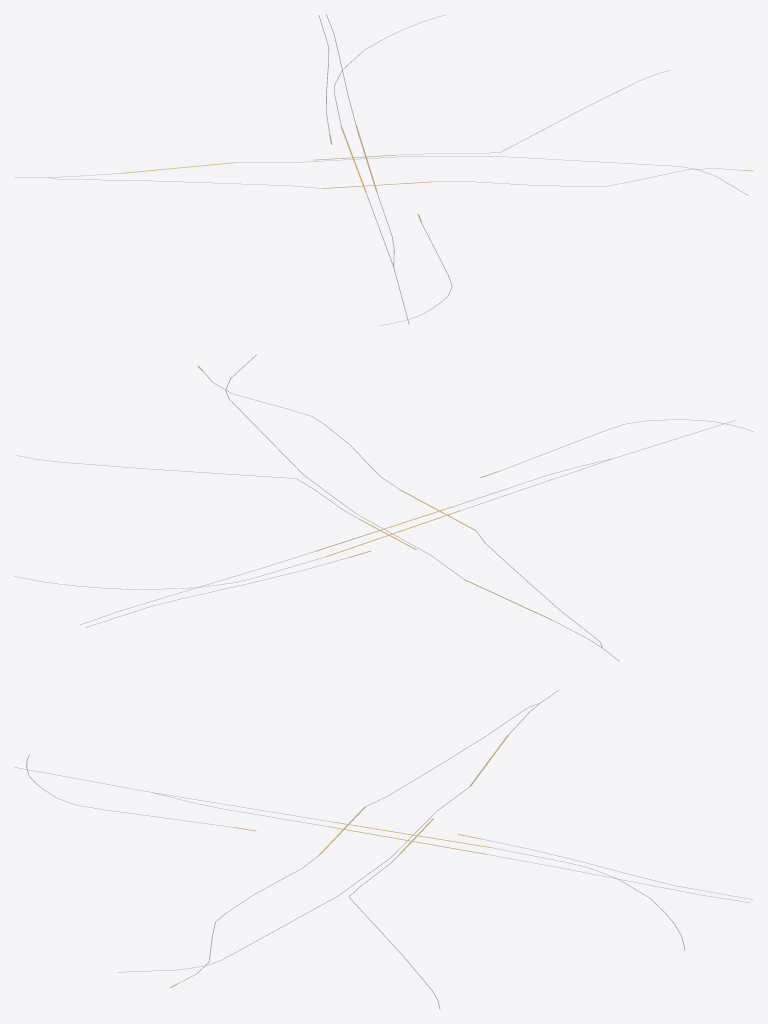
File: ksj_n02_2025_r700.glb
The picture shows the model from 3 angles, top to bottom: view 1: azimuth 30°, elevation 25°; view 2: azimuth 150°, elevation 25°; view 3: azimuth 270°, elevation 25°; orthographic projection. The views are drawn at different scales.
Parts seen in each view (by area): view 1: ctx_rail_all, ctx_station_all; view 2: ctx_rail_all, ctx_station_all; view 3: ctx_rail_all, ctx_station_all.
Part boxes in pixels (x1,y1,x2,y2): ctx_rail_all: (14,14,748,325); ctx_station_all: (121,126,753,222); ctx_rail_all: (14,354,753,661); ctx_station_all: (197,366,551,619); ctx_rail_all: (14,690,753,1009); ctx_station_all: (169,735,508,987).
Bounding box in the file's own units: 1315 × 0 × 1288.
